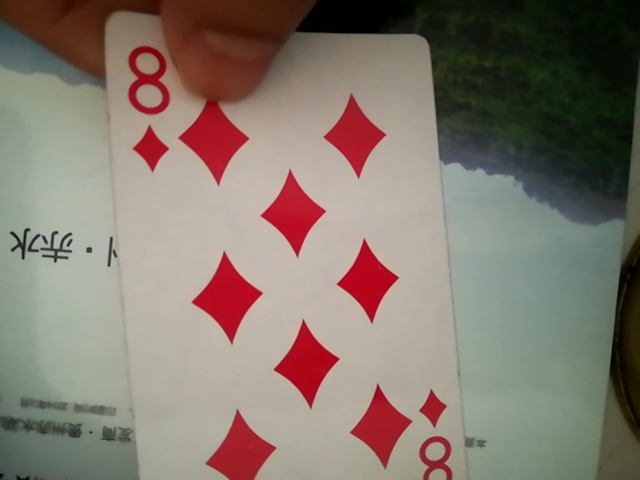fk 8: (85, 31, 474, 479)
